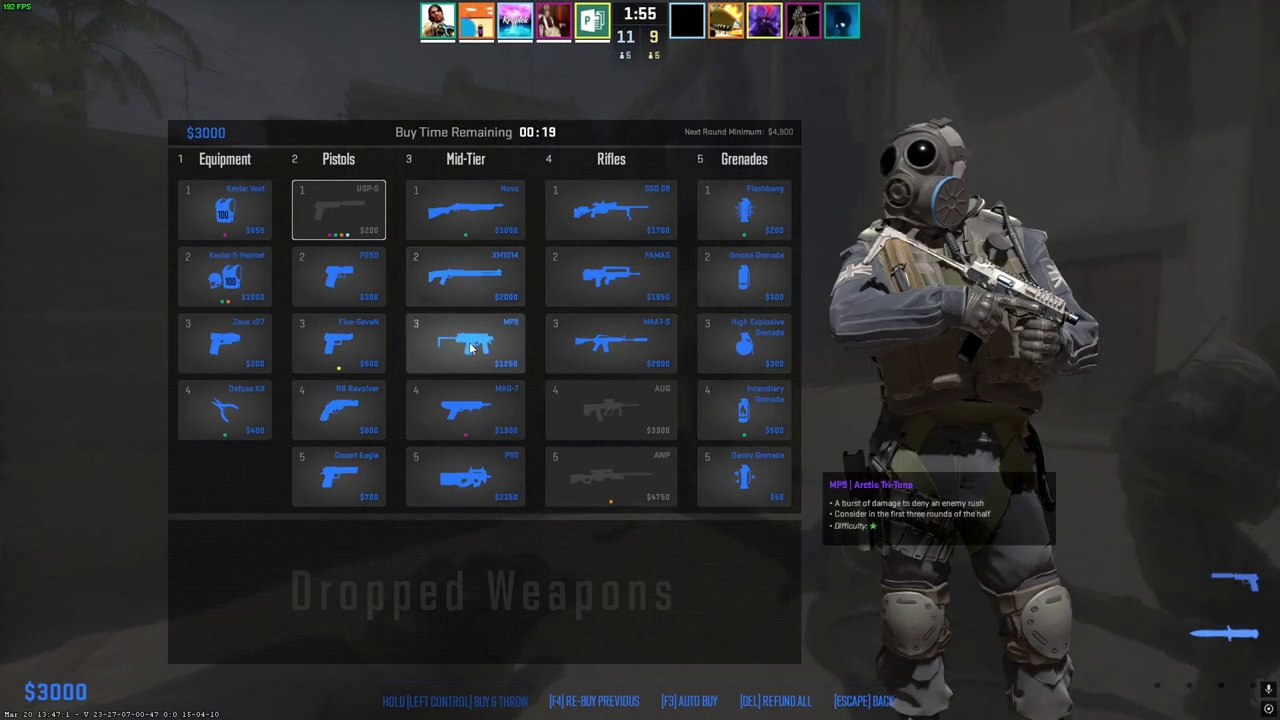CT: (856, 125, 1079, 720)
